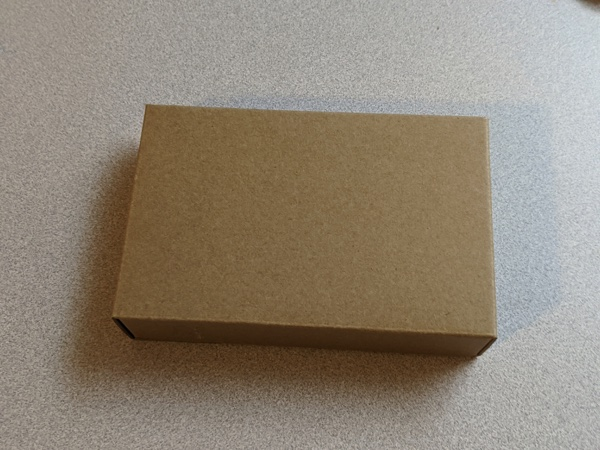cardboard: (104, 90, 515, 372)
